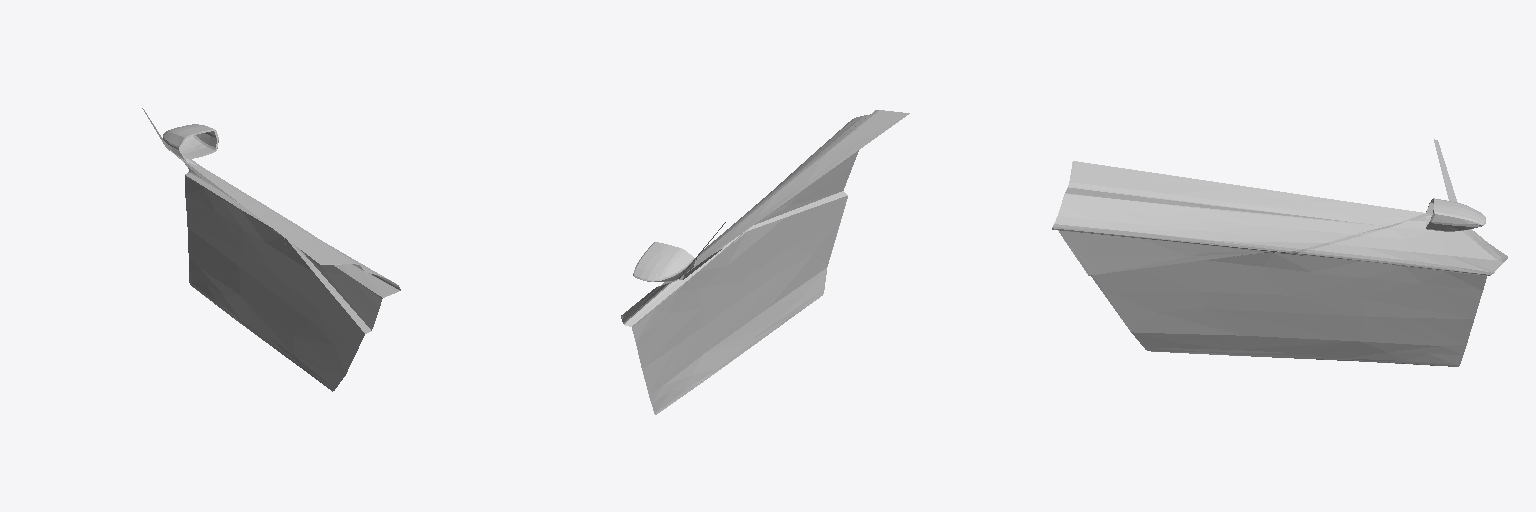
The model's file is zenrdoomesh1.obj.
3 renders of one model, left to right at view 1: azimuth 30°, elevation 25°; view 2: azimuth 150°, elevation 25°; view 3: azimuth 270°, elevation 25°, orthographic.
Parts seen in each view (by area): view 1: zenrdoomesh1; view 2: zenrdoomesh1; view 3: zenrdoomesh1.
Part boxes in pixels (x1,y1,x2,y2): zenrdoomesh1: (142,108,400,391); zenrdoomesh1: (621,110,909,414); zenrdoomesh1: (1052,139,1507,366).
Bounding box in the file's own units: 2.7 × 6.64 × 13.76.